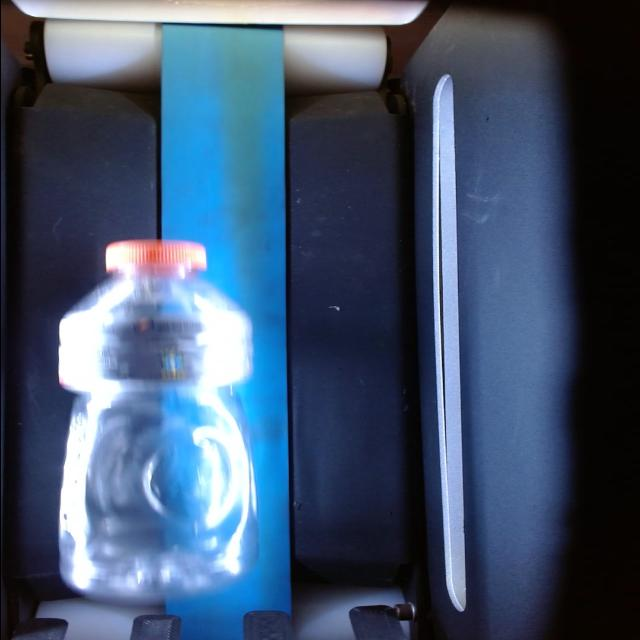bottle: (58, 240, 255, 600)
